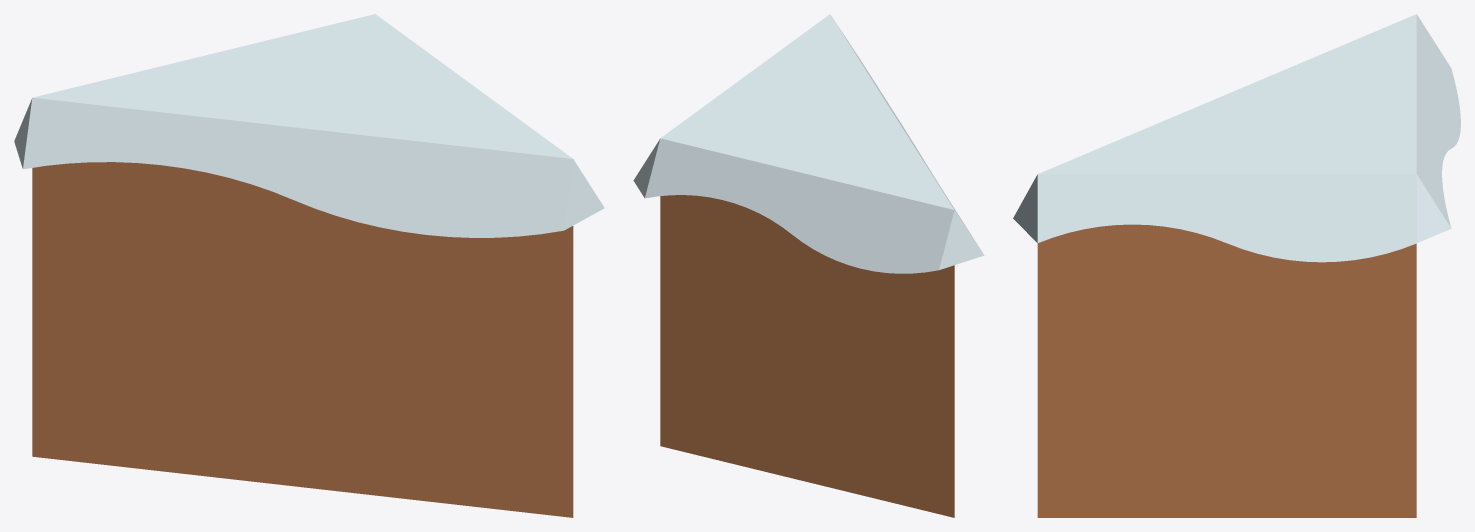
The model's file is blockSnowCornerLarge.fbx.
3 views of the same model, side by side, from view 1: azimuth 30°, elevation 25°; view 2: azimuth 150°, elevation 25°; view 3: azimuth 270°, elevation 25° (orthographic). The views are drawn at different scales.
Parts seen in each view (by area): view 1: blockSnowCornerLarge; view 2: blockSnowCornerLarge; view 3: blockSnowCornerLarge.
Part boxes in pixels (x1,y1,x2,y2): blockSnowCornerLarge: (14, 14, 604, 517); blockSnowCornerLarge: (633, 14, 984, 517); blockSnowCornerLarge: (1013, 14, 1460, 517).
Bounding box in the file's own units: 11.81 × 10 × 11.81.
